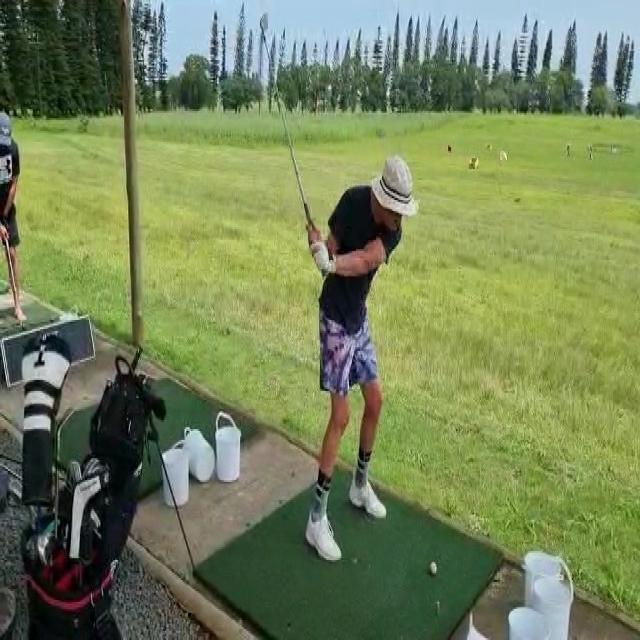club head: (259, 10, 271, 35)
